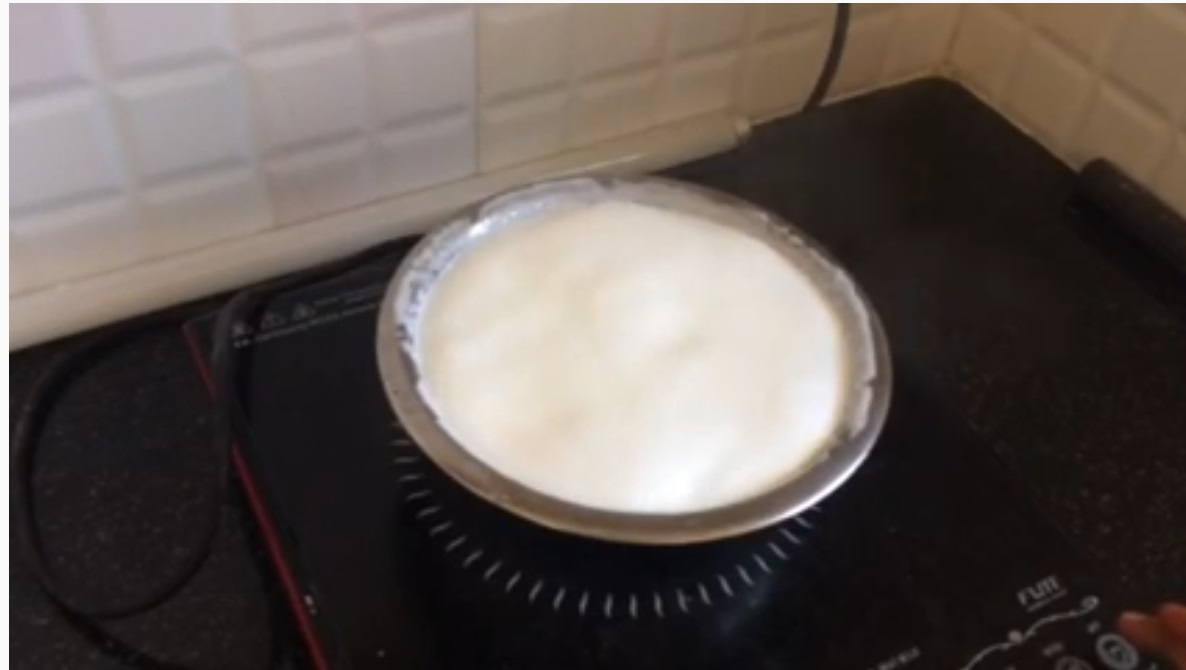Boiled: (361, 165, 904, 549)
